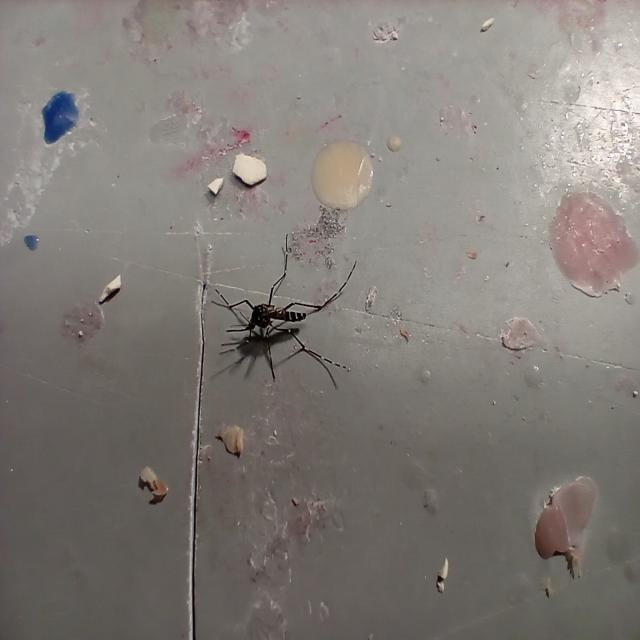albopictus: (198, 228, 362, 399)
